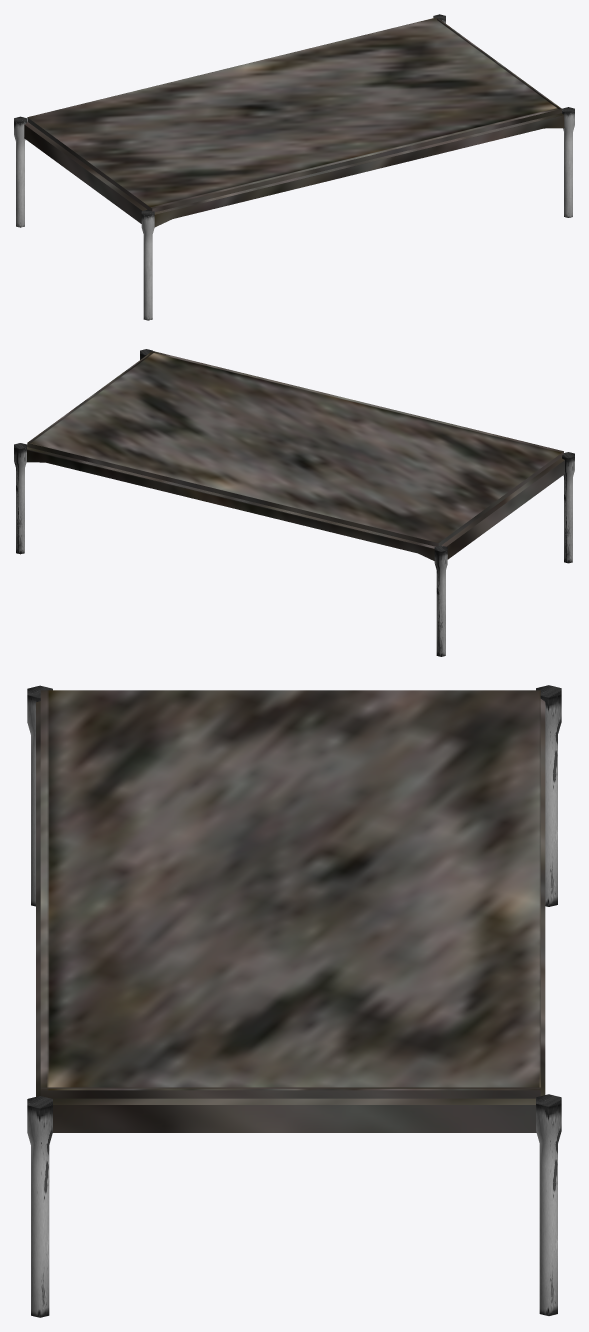
The model's file is stoliczekcrust.glb.
3 renders of one model, top to bottom at view 1: azimuth 30°, elevation 25°; view 2: azimuth 150°, elevation 25°; view 3: azimuth 270°, elevation 25°, orthographic. The views are drawn at different scales.
Visible parts, largest first — view 1: Box001, Cylinder001, Cylinder002, Cylinder004; view 2: Box001, Cylinder004, Cylinder003, Cylinder001; view 3: Box001, Cylinder003, Cylinder002, Cylinder004, Cylinder001.
Part boxes in pixels (x1,y1,x2,y2): Box001: [24, 17, 564, 227]; Cylinder001: [141, 209, 154, 320]; Cylinder002: [562, 107, 574, 217]; Cylinder004: [14, 116, 26, 227]; Box001: [27, 351, 565, 560]; Cylinder004: [434, 545, 447, 656]; Cylinder003: [14, 443, 26, 554]; Cylinder001: [562, 452, 574, 563]; Box001: [36, 690, 545, 1132]; Cylinder003: [536, 1094, 561, 1315]; Cylinder002: [27, 1096, 52, 1317]; Cylinder004: [536, 685, 561, 906]; Cylinder001: [27, 685, 52, 906].
Bounding box in the file's own units: 1.54 × 0.3689 × 0.8236.
2 materials, 2 textured.
